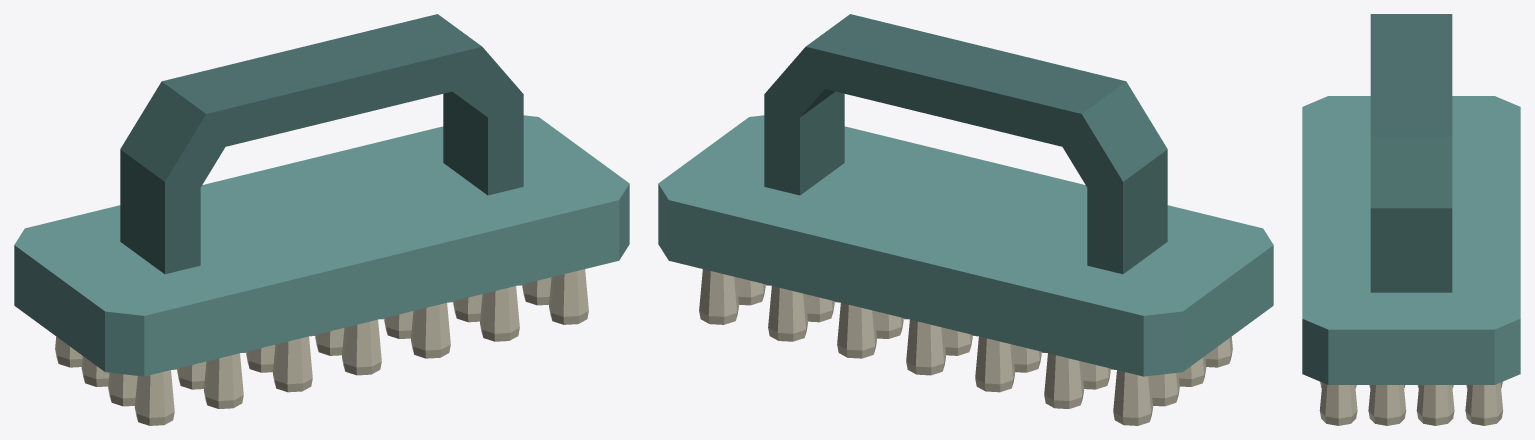
3 views of the same model, side by side, from view 1: azimuth 30°, elevation 25°; view 2: azimuth 150°, elevation 25°; view 3: azimuth 270°, elevation 25° (orthographic). The views are drawn at different scales.
Parts seen in each view (by area): view 1: WholeChamferCornerRectangularBrushBack, WholeRaisedArchGripAndBothReturnedLegs, WholeClosedDownwardTuft_R1_C1, WholeClosedDownwardTuft_R1_C5, WholeClosedDownwardTuft_R1_C7, WholeClosedDownwardTuft_R1_C6, WholeClosedDownwardTuft_R1_C3, WholeClosedDownwardTuft_R1_C2, WholeClosedDownwardTuft_R1_C4, WholeClosedDownwardTuft_R2_C1, WholeClosedDownwardTuft_R2_C3, WholeClosedDownwardTuft_R2_C7 (+5 smaller); view 2: WholeChamferCornerRectangularBrushBack, WholeRaisedArchGripAndBothReturnedLegs, WholeClosedDownwardTuft_R4_C1, WholeClosedDownwardTuft_R4_C5, WholeClosedDownwardTuft_R4_C7, WholeClosedDownwardTuft_R4_C6, WholeClosedDownwardTuft_R4_C3, WholeClosedDownwardTuft_R4_C2, WholeClosedDownwardTuft_R4_C4, WholeClosedDownwardTuft_R3_C1, WholeClosedDownwardTuft_R3_C3, WholeClosedDownwardTuft_R3_C7 (+5 smaller); view 3: WholeChamferCornerRectangularBrushBack, WholeRaisedArchGripAndBothReturnedLegs, WholeClosedDownwardTuft_R1_C7, WholeClosedDownwardTuft_R4_C7, WholeClosedDownwardTuft_R2_C7, WholeClosedDownwardTuft_R3_C7.
Part boxes in pixels (x1=…): WholeChamferCornerRectangularBrushBack: x1=14, y1=115, x2=629, y2=376; WholeRaisedArchGripAndBothReturnedLegs: x1=120, y1=14, x2=523, y2=274; WholeClosedDownwardTuft_R1_C1: x1=134, y1=370, x2=174, y2=425; WholeClosedDownwardTuft_R1_C5: x1=411, y1=303, x2=450, y2=358; WholeClosedDownwardTuft_R1_C7: x1=549, y1=269, x2=588, y2=324; WholeClosedDownwardTuft_R1_C6: x1=480, y1=286, x2=519, y2=341; WholeClosedDownwardTuft_R1_C3: x1=273, y1=336, x2=312, y2=392; WholeClosedDownwardTuft_R1_C2: x1=203, y1=353, x2=243, y2=408; WholeClosedDownwardTuft_R1_C4: x1=342, y1=319, x2=381, y2=375; WholeClosedDownwardTuft_R2_C1: x1=108, y1=372, x2=137, y2=406; WholeClosedDownwardTuft_R2_C3: x1=246, y1=345, x2=275, y2=372; WholeClosedDownwardTuft_R2_C7: x1=522, y1=277, x2=551, y2=305; WholeChamferCornerRectangularBrushBack: x1=658, y1=115, x2=1273, y2=376; WholeRaisedArchGripAndBothReturnedLegs: x1=764, y1=14, x2=1167, y2=274; WholeClosedDownwardTuft_R4_C1: x1=1113, y1=370, x2=1153, y2=425; WholeClosedDownwardTuft_R4_C5: x1=837, y1=303, x2=876, y2=358; WholeClosedDownwardTuft_R4_C7: x1=699, y1=269, x2=738, y2=324; WholeClosedDownwardTuft_R4_C6: x1=768, y1=286, x2=807, y2=341; WholeClosedDownwardTuft_R4_C3: x1=975, y1=336, x2=1014, y2=392; WholeClosedDownwardTuft_R4_C2: x1=1044, y1=353, x2=1084, y2=408; WholeClosedDownwardTuft_R4_C4: x1=906, y1=319, x2=945, y2=375; WholeClosedDownwardTuft_R3_C1: x1=1150, y1=372, x2=1179, y2=406; WholeClosedDownwardTuft_R3_C3: x1=1012, y1=345, x2=1041, y2=372; WholeClosedDownwardTuft_R3_C7: x1=736, y1=277, x2=765, y2=305; WholeChamferCornerRectangularBrushBack: x1=1302, y1=96, x2=1520, y2=384; WholeRaisedArchGripAndBothReturnedLegs: x1=1370, y1=14, x2=1452, y2=292; WholeClosedDownwardTuft_R1_C7: x1=1319, y1=382, x2=1357, y2=425; WholeClosedDownwardTuft_R4_C7: x1=1465, y1=382, x2=1503, y2=425; WholeClosedDownwardTuft_R2_C7: x1=1368, y1=385, x2=1406, y2=425; WholeClosedDownwardTuft_R3_C7: x1=1416, y1=385, x2=1454, y2=425.
Bounding box in the file's own units: 0.19 × 0.095 × 0.075.
